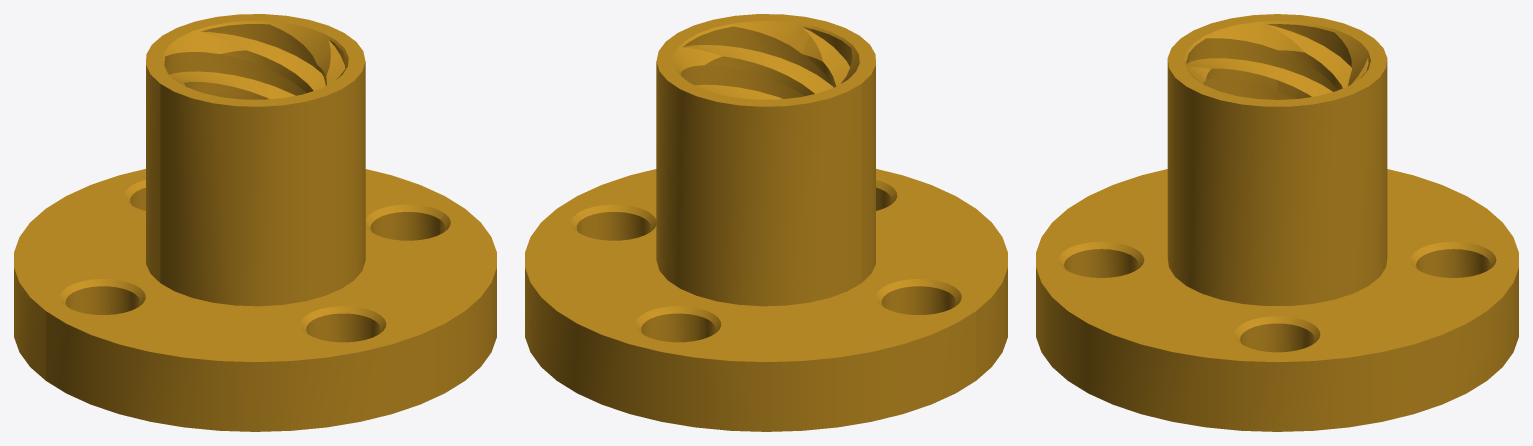
File: fc-t8-flange-nut.glb
The picture shows the model from 3 angles, left to right: view 1: azimuth 30°, elevation 25°; view 2: azimuth 150°, elevation 25°; view 3: azimuth 270°, elevation 25°; orthographic projection.
Visible parts, largest first — view 1: 0.5833333333333334_0.25_0_0; view 2: 0.5833333333333334_0.25_0_0; view 3: 0.5833333333333334_0.25_0_0.
Boxes of the visible parts, x1,y1,x2,y2 form: 0.5833333333333334_0.25_0_0: [14, 14, 496, 431]; 0.5833333333333334_0.25_0_0: [525, 14, 1007, 431]; 0.5833333333333334_0.25_0_0: [1036, 14, 1518, 431].
Size of the model in its own units: 2.2 by 1.5 by 2.19.
